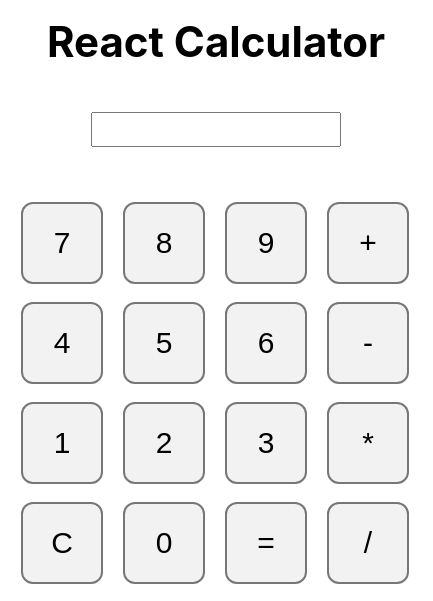
Test: React Calculator Tests › Edge Case Handling › handles division zero by zero
Click the button "0".
click(164, 543)  # box x1=123 y1=502 x2=205 y2=584
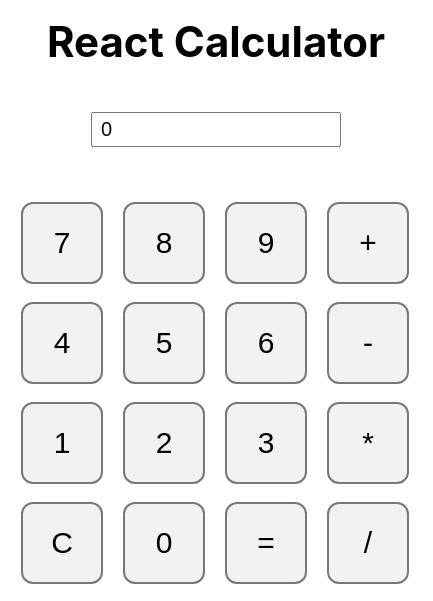
Click the button "/".
click(368, 543)  # box x1=327 y1=502 x2=409 y2=584
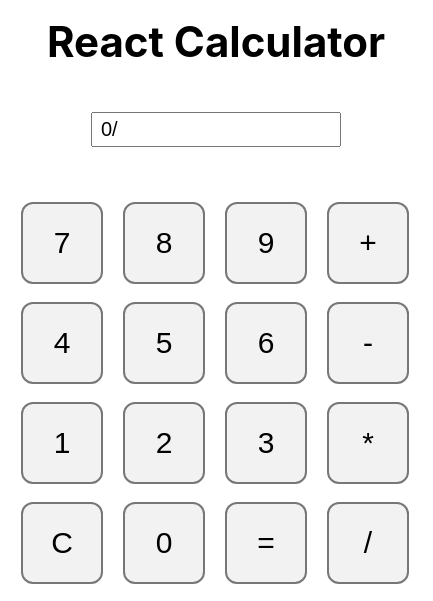
Click the button "0".
click(164, 543)  # box x1=123 y1=502 x2=205 y2=584
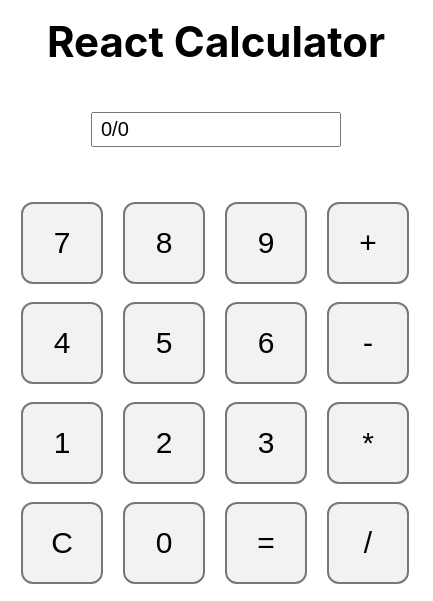
Click the button "=".
click(266, 543)  # box x1=225 y1=502 x2=307 y2=584
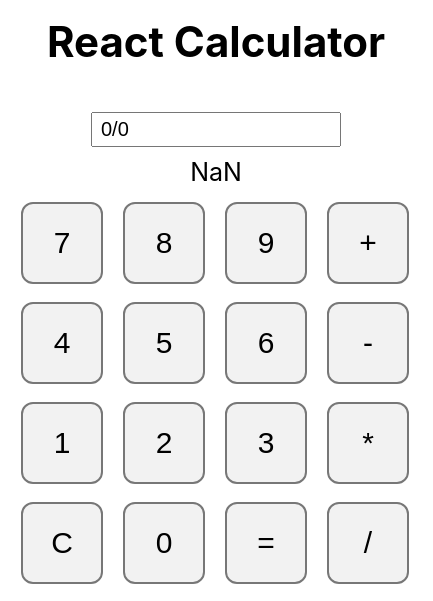
Expected: the text "NaN" is shown, x1=190 y1=157 x2=242 y2=187
